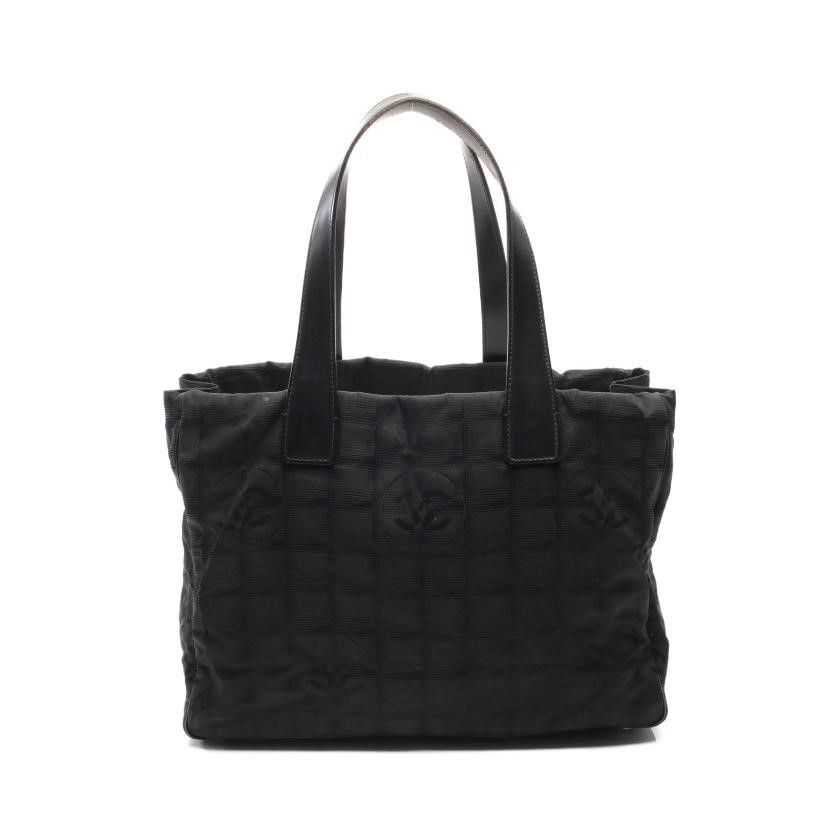channel: (113, 311, 727, 758), (369, 457, 515, 570)
